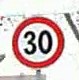limite 30: (10, 15, 64, 69)
